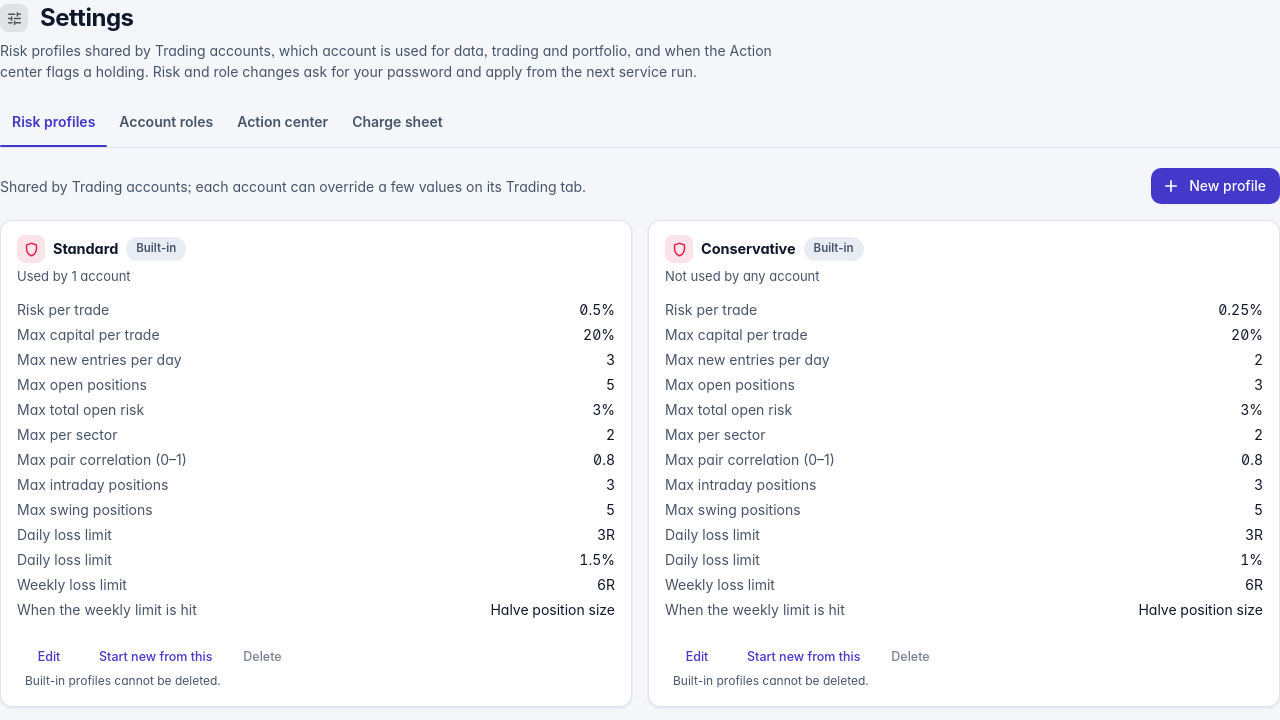
Test: Risk profiles › creates a profile starting from an existing one (password asked on 403)
Click the button with aria-label "Start a new profile from Standard": (156, 656) [89, 642, 222, 672]
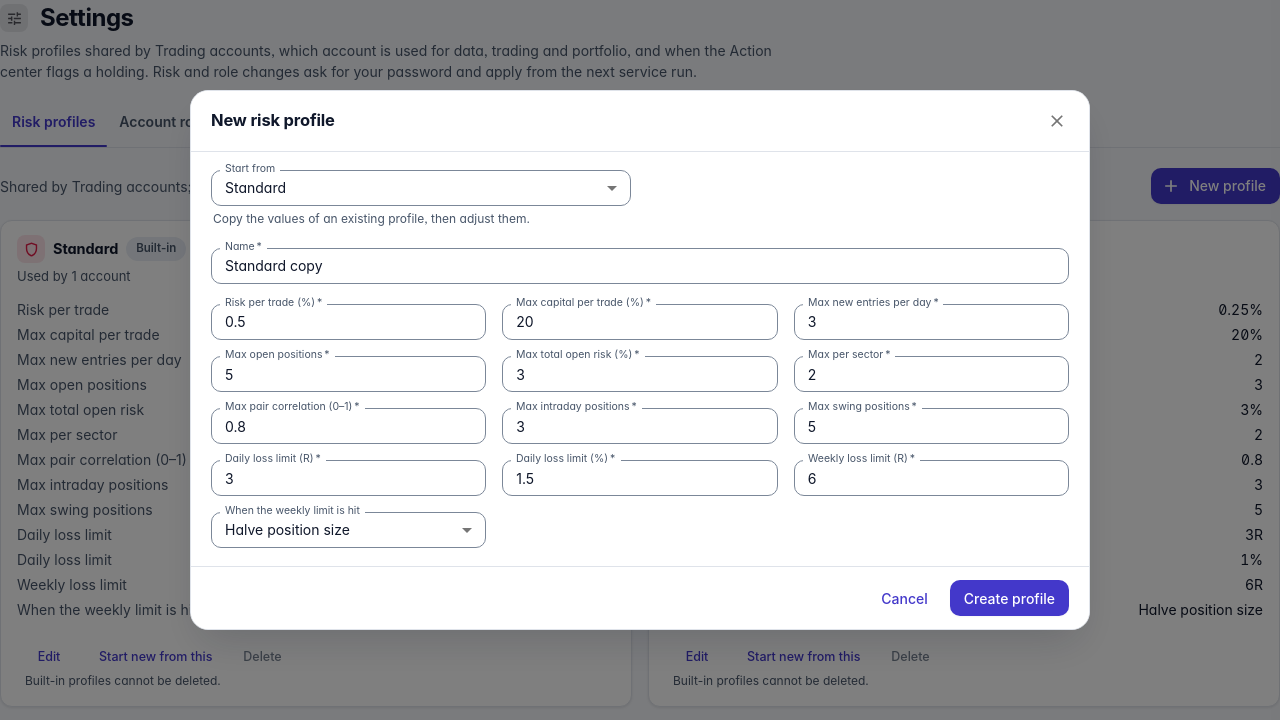
expect the field labelled "Name *" holds "Standard copy": met
expect the number field labelled "Risk per trade (%) *" holds "0.5": met, box [211, 304, 486, 340]
Replace the text in the field labelled "Name *" with "Steady": (640, 266) [211, 248, 1069, 284]
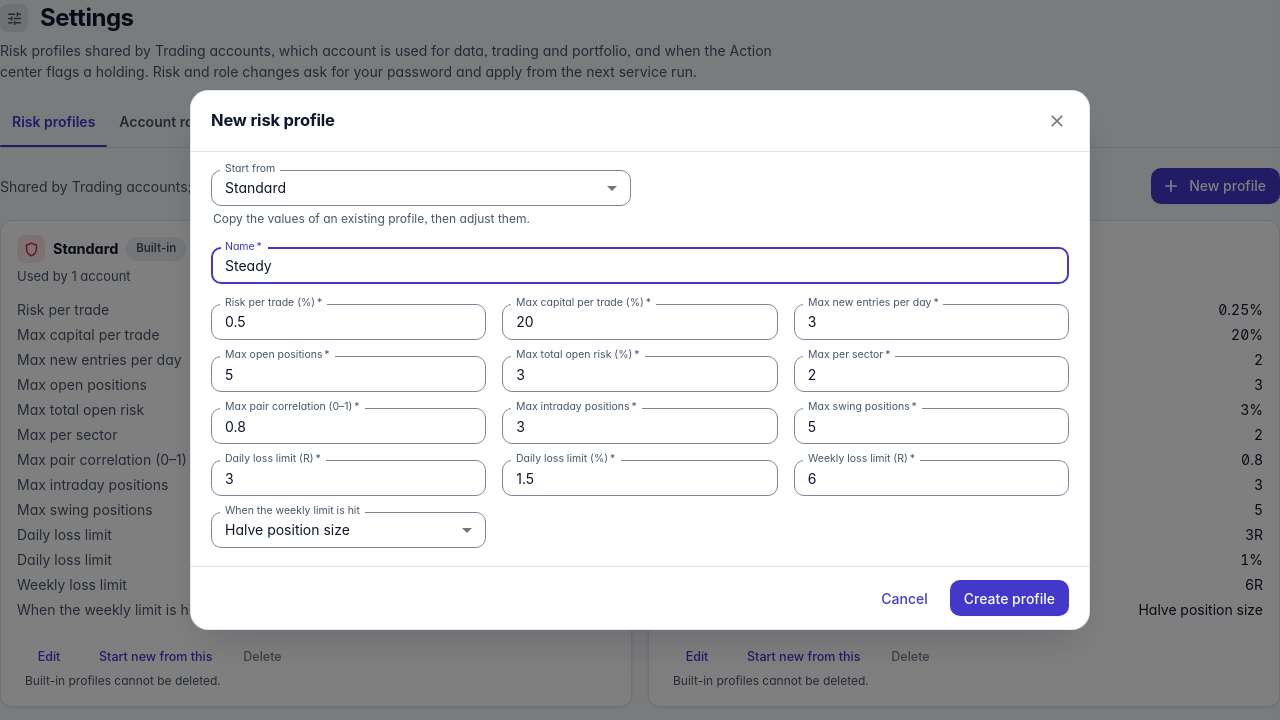
Replace the text in the number field labelled "Max open positions *" with "4": (349, 374) [211, 356, 486, 392]
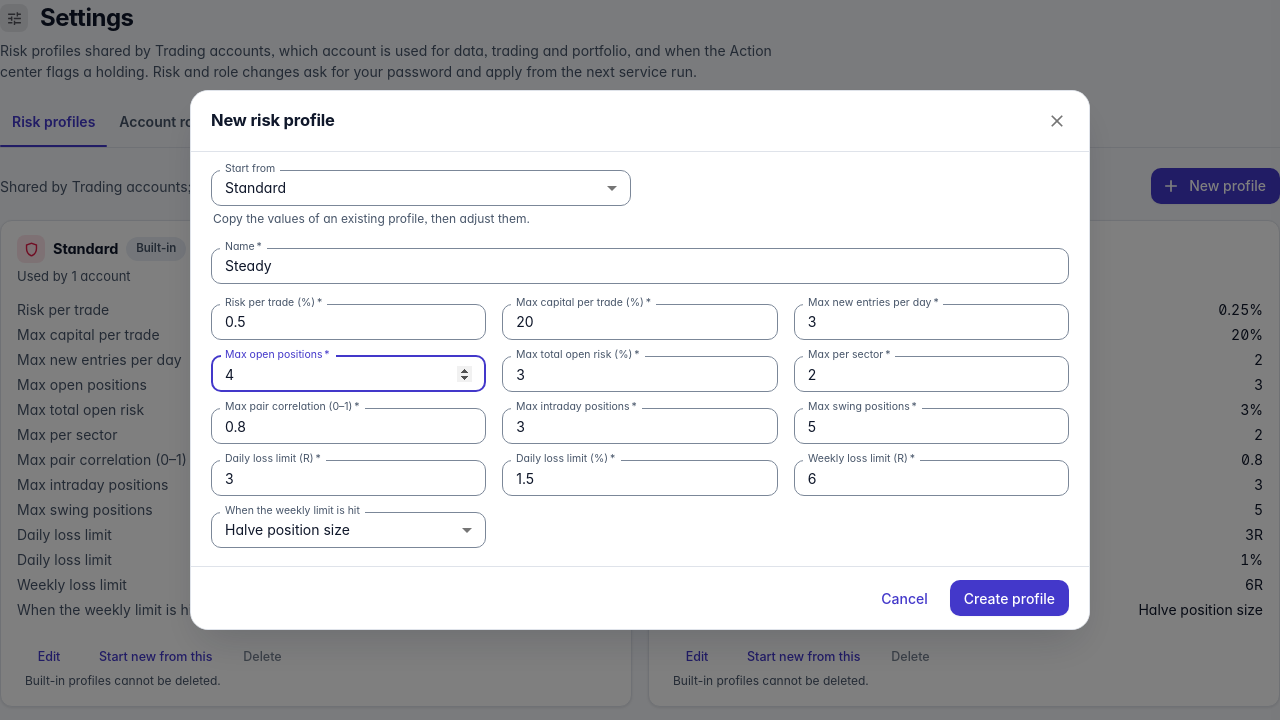
Click the button "Create profile": (1009, 598) [950, 580, 1069, 616]
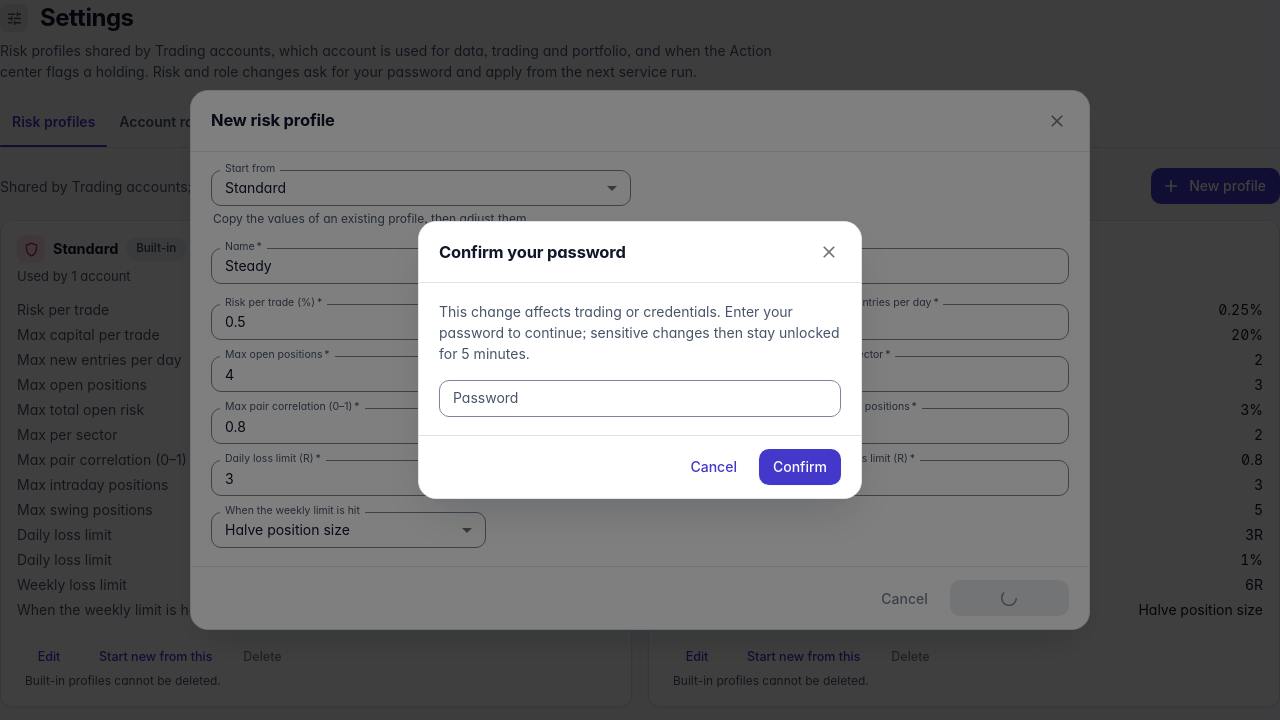
In the password field labelled "Password": (640, 398) [439, 380, 841, 416], type "correct-password"
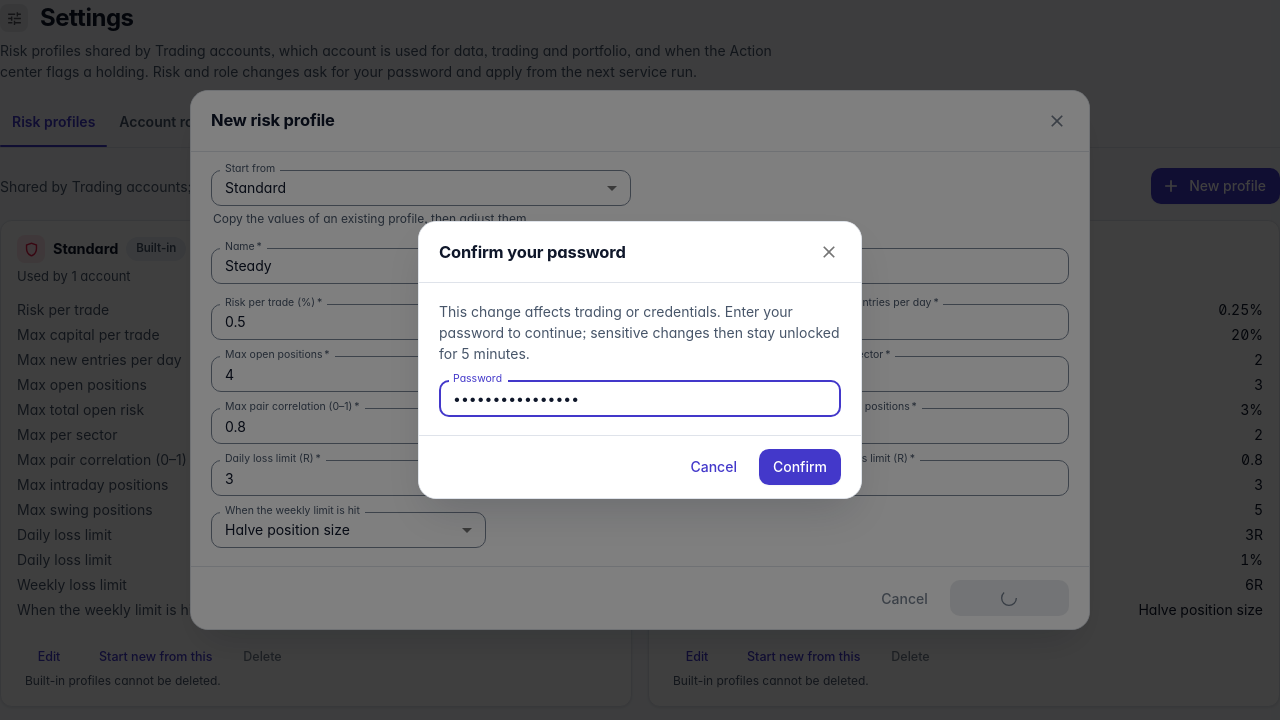
Click the button "Confirm": (800, 467) [759, 449, 841, 485]
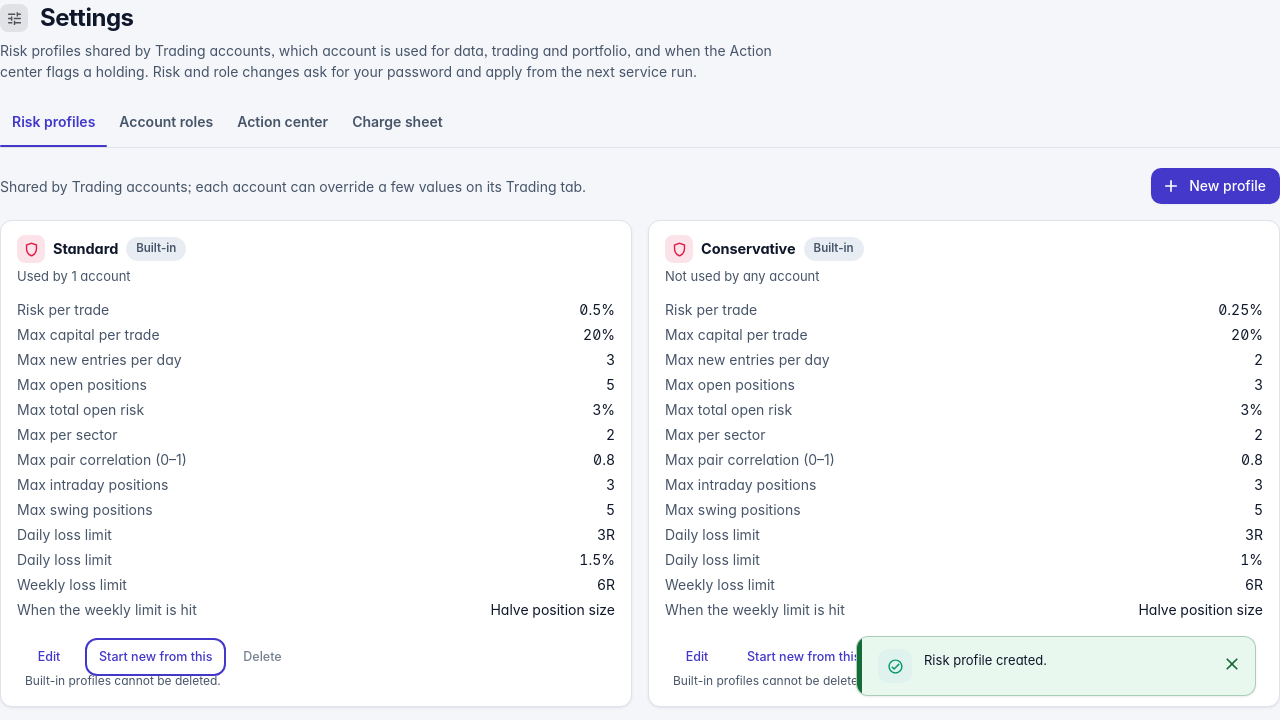
expect the text "Risk profile created." is shown: met, box [924, 652, 1047, 668]
expect the dialog is gone: met
